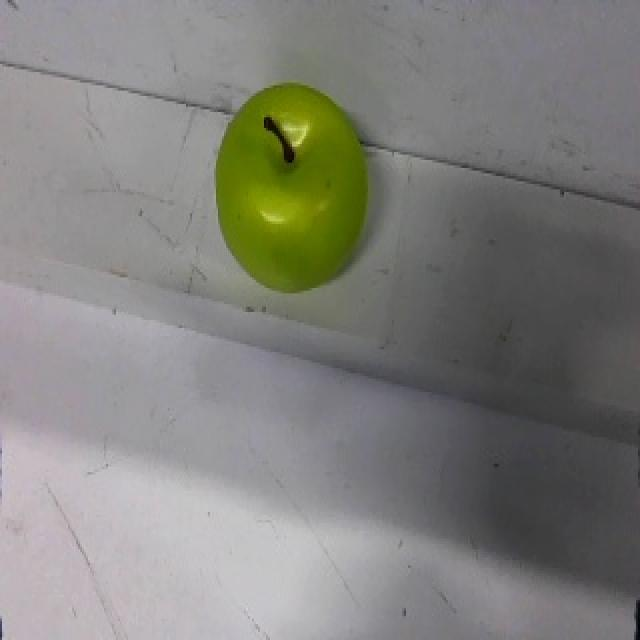apple: (213, 81, 372, 293)
